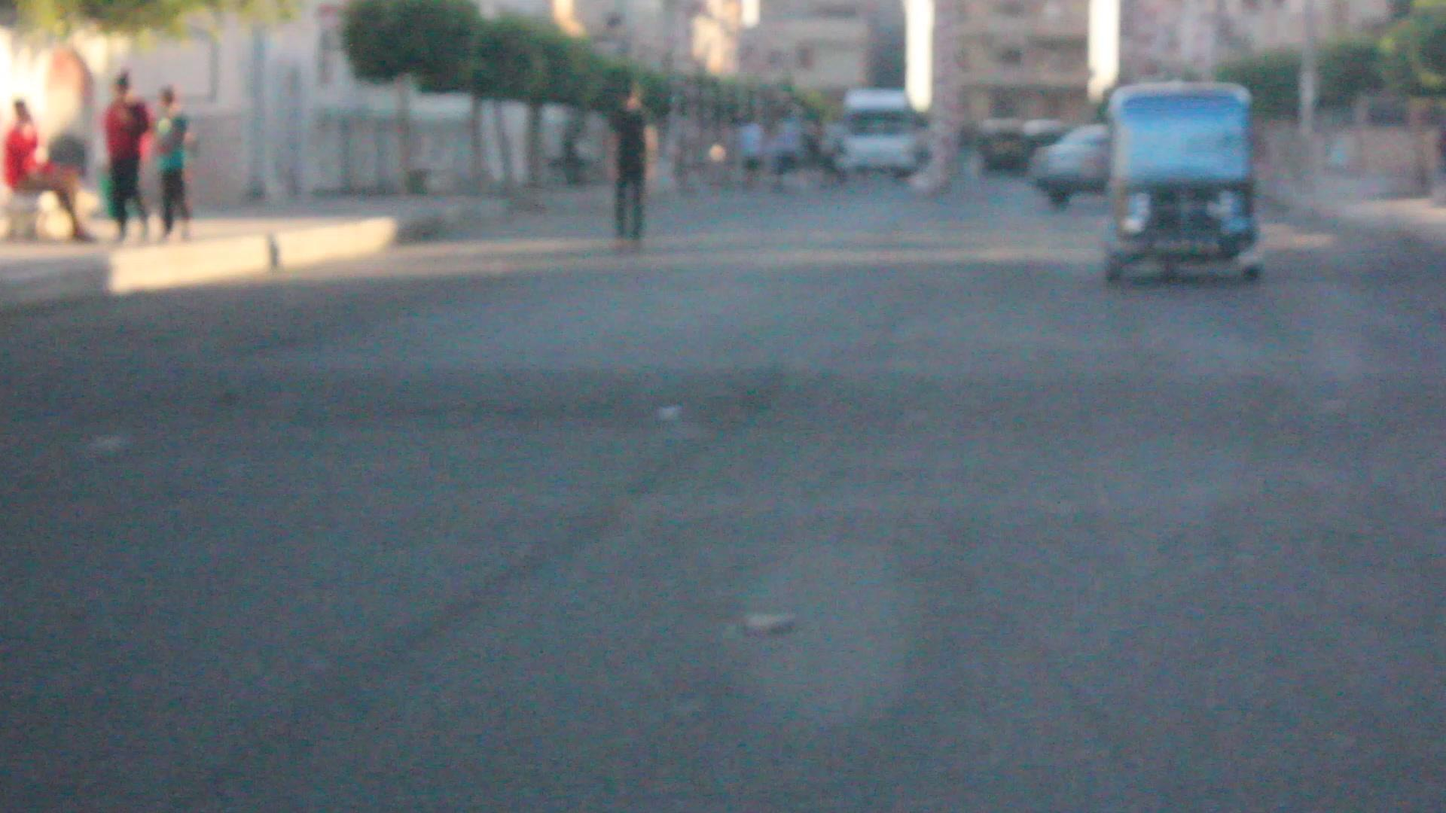Bump: (8, 322, 1446, 440)
